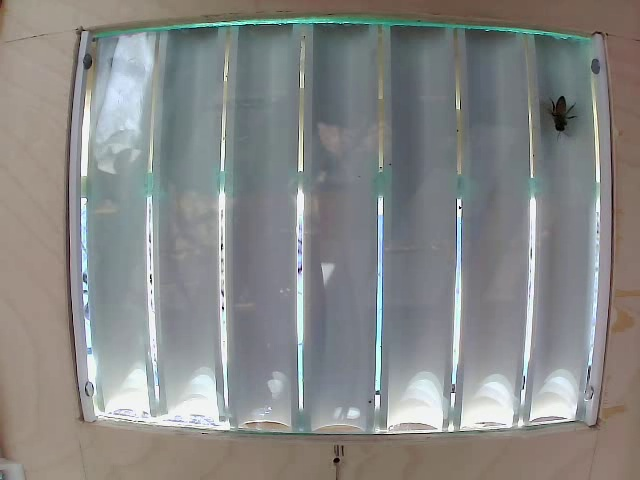bee: (543, 78, 578, 156)
